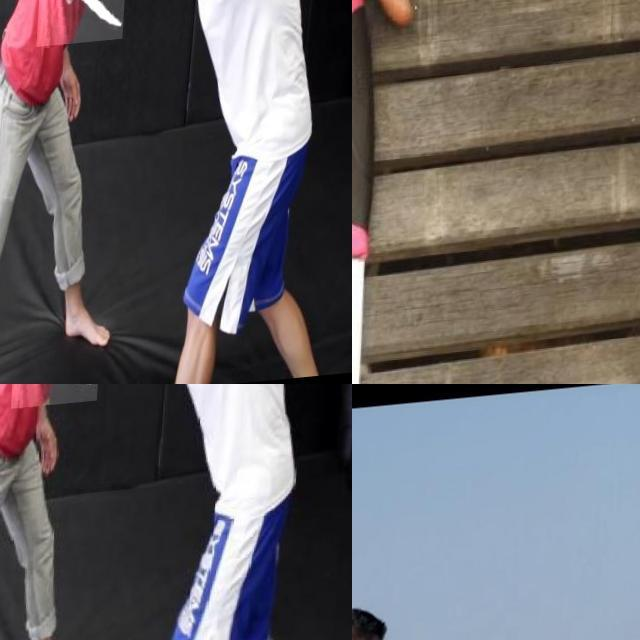-: (352, 70, 425, 384), (352, 185, 387, 384), (14, 384, 105, 444), (39, 0, 131, 56), (352, 576, 390, 640)
